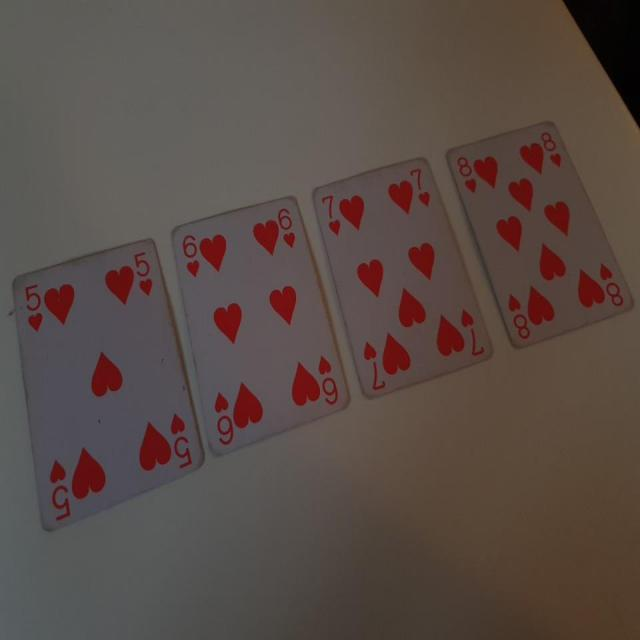5 Hearts: (9, 230, 204, 551)
6 Hearts: (174, 186, 349, 458)
7 Hearts: (304, 151, 496, 402)
8 Hearts: (451, 109, 634, 353)
